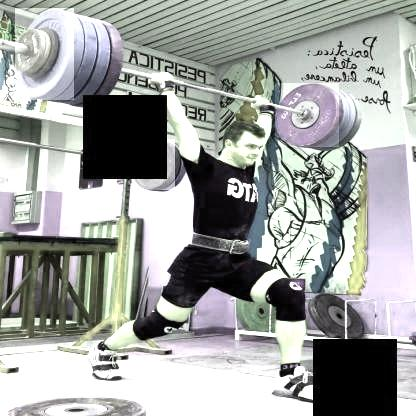barbell: (14, 9, 73, 101), (274, 83, 338, 147), (131, 140, 173, 190)
